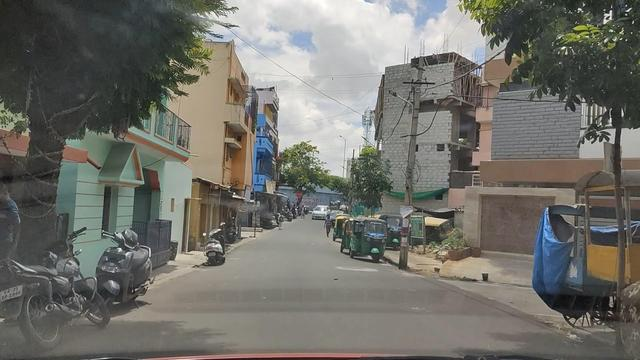LMV: (345, 219, 385, 258)
RoadDamages: (338, 264, 379, 276)
